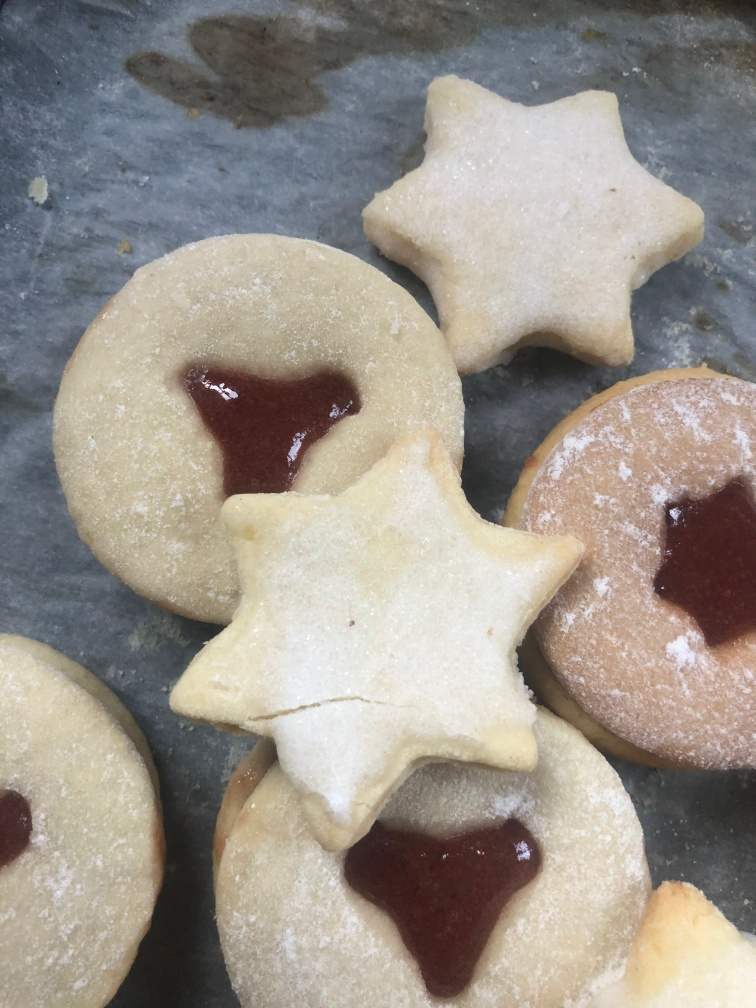christmas shortbread with jam: (57, 232, 472, 615), (216, 760, 645, 1008), (522, 369, 755, 766), (4, 633, 155, 997)
star: (157, 440, 580, 823), (363, 71, 706, 369)
